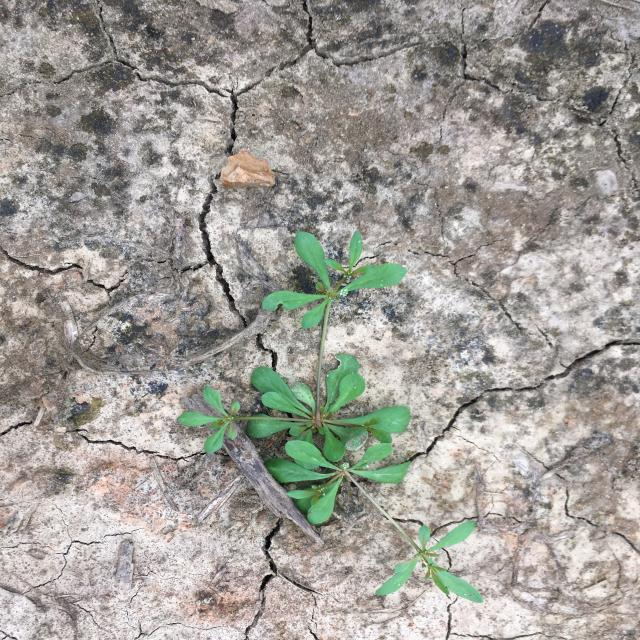Carpetweed: (177, 230, 485, 603)
